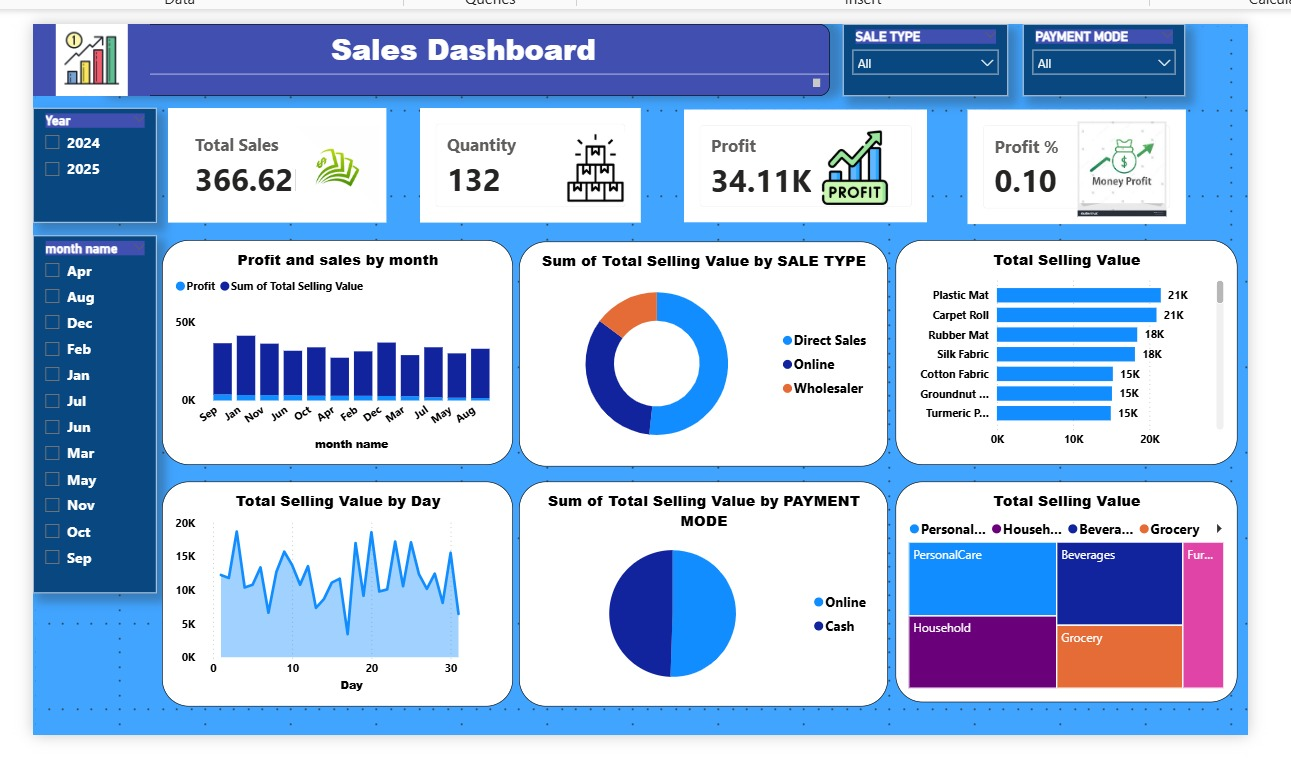

What the dashboard file says about the page in this screenshot:
{"tool":"powerbi","page":{"name":"Page 1","canvas":[1350,790],"ordinal":0},"visuals":[{"type":"textbox","title":"Sales Dashboard","box":[70,0,815,80],"z":0},{"type":"image","box":[0,0,130,80],"z":1000},{"type":"slicer","fields":{"Values":["InputData.Year"]},"box":[0,92.5,137.5,127.5],"z":2000},{"type":"slicer","fields":{"Values":["InputData.month name"]},"box":[0,235,137.5,397.5],"z":3000},{"type":"slicer","fields":{"Values":["InputData.SALE TYPE"]},"box":[900,0,183.3,80],"z":4000},{"type":"slicer","fields":{"Values":["InputData.PAYMENT MODE"]},"box":[1100,0,180,80],"z":5000},{"type":"cardVisual","fields":{"Data":["Sum(InputData.Total Selling Value)"]},"box":[150,92.5,242.5,127.5],"z":6000},{"type":"cardVisual","fields":{"Data":["InputData.Profit %"]},"box":[1037.5,95,242.5,127.5],"z":7000},{"type":"cardVisual","fields":{"Data":["InputData.Profit"]},"box":[722.5,95,270,125],"z":8000},{"type":"cardVisual","fields":{"Data":["Sum(InputData.QUANTITY)"]},"box":[430,92.5,245,127.5],"z":9000},{"type":"image","box":[1120,107.5,180,105],"z":10000},{"type":"image","box":[282.5,112.5,110,92.5],"z":11000},{"type":"image","box":[575,120,100,80],"z":12000},{"type":"image","box":[857.5,117.5,110,82.5],"z":13000},{"type":"columnChart","title":"Profit and sales by month","fields":{"Category":["InputData.month name"],"Y":["InputData.Profit","Sum(InputData.Total Selling Value)"]},"box":[142.9,240,390,250],"z":14000},{"type":"areaChart","title":"Total Selling Value by Day","fields":{"Category":["InputData.Day"],"Y":["Sum(InputData.Total Selling Value)"]},"box":[142.5,507.5,390,250],"z":15000},{"type":"funnel","title":" Total Selling Value ","fields":{"Category":["InputData.MasterData.PRODUCT"],"Y":["Sum(InputData.Total Selling Value)"]},"box":[958.6,240,380,250],"z":16000},{"type":"treemap","title":"Total Selling Value","fields":{"Group":["InputData.MasterData.CATEGORY"],"Values":["Sum(InputData.Total Selling Value)"]},"box":[957.5,507.5,380,245],"z":17000},{"type":"donutChart","fields":{"Category":["InputData.SALE TYPE"],"Y":["Sum(InputData.Total Selling Value)"]},"box":[540,241.4,410,250],"z":18000},{"type":"pieChart","fields":{"Category":["InputData.PAYMENT MODE"],"Y":["Sum(InputData.Total Selling Value)"]},"box":[540,507.5,410,250],"z":19000}]}

Visuals, with their boxes in screenshot pixels (x1, y1, x2, y2):
"Sales Dashboard" textbox: [x1=91, y1=17, x2=832, y2=90]
image: [x1=27, y1=17, x2=145, y2=90]
slicer - InputData.Year: [x1=27, y1=101, x2=152, y2=217]
slicer - InputData.month name: [x1=27, y1=231, x2=152, y2=592]
slicer - InputData.SALE TYPE: [x1=846, y1=17, x2=1012, y2=90]
slicer - InputData.PAYMENT MODE: [x1=1028, y1=17, x2=1191, y2=90]
cardVisual - Sum(InputData.Total Selling Value): [x1=163, y1=101, x2=384, y2=217]
cardVisual - InputData.Profit %: [x1=971, y1=103, x2=1191, y2=219]
cardVisual - InputData.Profit: [x1=684, y1=103, x2=930, y2=217]
cardVisual - Sum(InputData.QUANTITY): [x1=418, y1=101, x2=641, y2=217]
image: [x1=1046, y1=115, x2=1209, y2=210]
image: [x1=284, y1=119, x2=384, y2=203]
image: [x1=550, y1=126, x2=641, y2=199]
image: [x1=807, y1=124, x2=907, y2=199]
"Profit and sales by month" columnChart: [x1=157, y1=235, x2=512, y2=463]
"Total Selling Value by Day" areaChart: [x1=157, y1=478, x2=511, y2=706]
" Total Selling Value " funnel: [x1=899, y1=235, x2=1245, y2=463]
"Total Selling Value" treemap: [x1=898, y1=478, x2=1244, y2=701]
donutChart - InputData.SALE TYPE x Sum(InputData.Total Selling Value): [x1=518, y1=236, x2=891, y2=464]
pieChart - InputData.PAYMENT MODE x Sum(InputData.Total Selling Value): [x1=518, y1=478, x2=891, y2=706]
